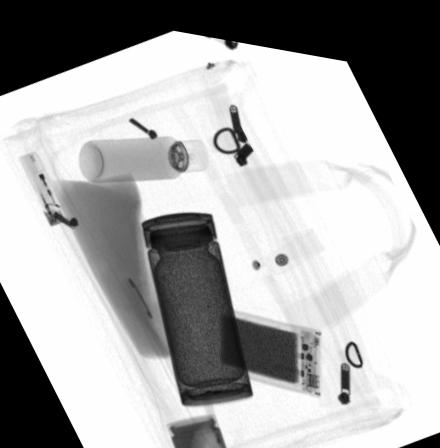Lighter: (19, 148, 69, 223)
Powerbank: (205, 293, 322, 384)
Sprayer: (77, 128, 208, 179)
